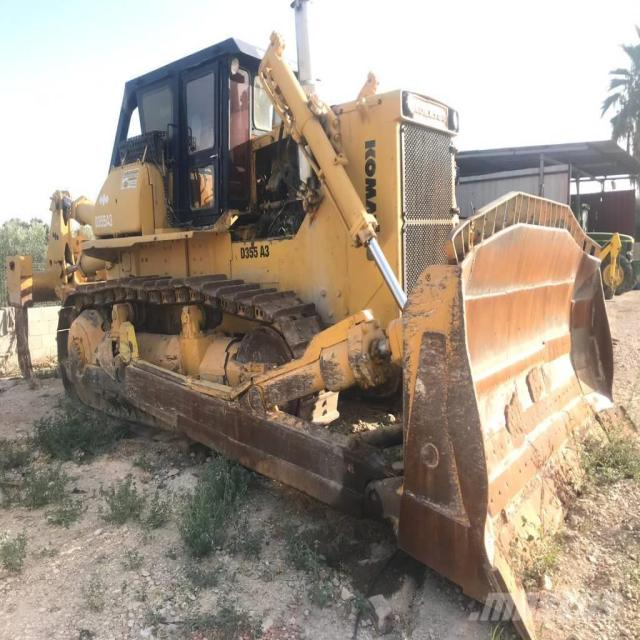buldozerpayloadergrader: (31, 20, 640, 628)
